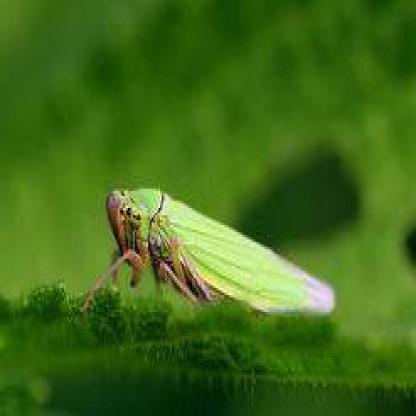Green-Leafhopper: (95, 174, 335, 335)
